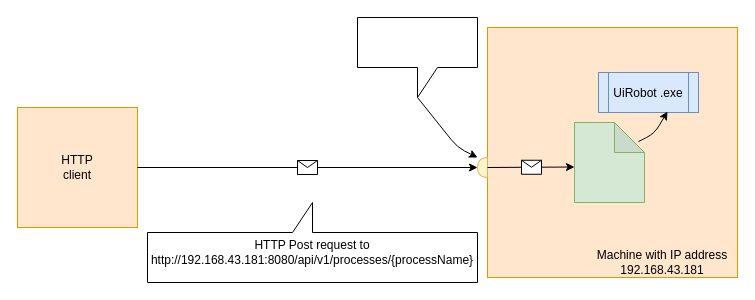
Image size: 755x300. Some labels were removed from this diagram. The box of each missing label's shape, as (x1, y1, x2, y2) in pixels:
Port: 8080: (356, 16, 478, 98)
Spring Boot App: (574, 122, 644, 202)
